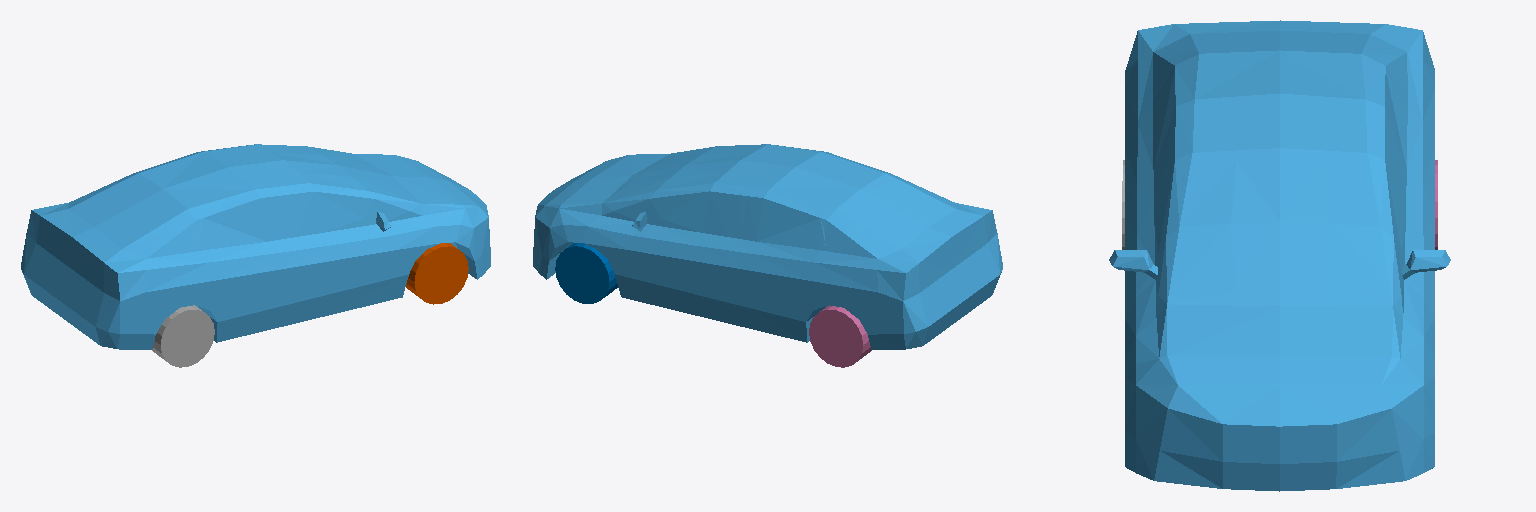
URDF robot description (prius):
<?xml version="1.0"?>
<robot xmlns:xacro="http://ros.org/wiki/xacro" name="prius">
  <!--- Surface properties must come first? -->
  <gazebo reference="front_left_wheel">
    <mu1>0.9</mu1>
    <mu2>0.9</mu2>
    <minDepth>0.005</minDepth>
    <kp>1e8</kp>
  </gazebo>
  <gazebo reference="front_right_wheel">
    <mu1>0.9</mu1>
    <mu2>0.9</mu2>
    <minDepth>0.005</minDepth>
    <kp>1e8</kp>
  </gazebo>
  <gazebo reference="rear_left_wheel">
    <mu1>0.9</mu1>
    <mu2>0.9</mu2>
    <minDepth>0.005</minDepth>
    <kp>1e8</kp>
  </gazebo>
  <gazebo reference="rear_right_wheel">
    <mu1>0.9</mu1>
    <mu2>0.9</mu2>
    <minDepth>0.005</minDepth>
    <kp>1e8</kp>
  </gazebo>

  <link name="base_link">
    <inertial>
      <mass value="1"/>
      <inertia ixx="0.001" ixy="0.0" ixz="0.0" iyy="0.001" iyz="0.0" izz="0.001"/>
    </inertial>
  </link>
  <joint name="base_link_connection" type="fixed">
    <parent link="base_link"/>
    <child link="chassis"/>
    <origin xyz="1.45 0 0" rpy="0 0 1.57"/>
    <axis xyz="1 0 0"/>
  </joint>

  <link name="chassis">
    <visual>
      <origin xyz="0 0 0" rpy="0 0 0"/>
      <geometry>
        <mesh filename="meshes/hybrid_body.obj" scale="0.01 0.01 0.01"/>
      </geometry>
    </visual>

    <collision name="chassis">
      <origin xyz="0.0 0.05 0.625" rpy="0 0 0"/>
      <geometry>
        <box size="1.7526 2.1 0.95"/>
      </geometry>
    </collision>

    <collision name="front_bumper">
      <origin xyz="0.0 -2.0 0.458488" rpy="0.0 0 0"/>
      <geometry>
        <box size="1.337282 0.48 0.566691"/>
      </geometry>
    </collision>

    <collision name="hood">
      <origin xyz="0.0 -1.900842 0.676305" rpy="0.341247 0 0"/>
      <geometry>
        <box size="1.597968 0.493107 0.265468"/>
      </geometry>
    </collision>

    <collision name="windshield">
      <origin xyz="0.0 -0.875105 1.032268" rpy="0.335476 0 0"/>
      <geometry>
        <box size="1.168381 1.654253 0.272347"/>
      </geometry>
    </collision>

    <collision name="top_front">
      <origin xyz="0.0 0.161236 1.386042" rpy="0.135030 0 0"/>
      <geometry>
        <box size="1.279154 0.625988 0.171868"/>
      </geometry>
    </collision>

    <collision name="top_rear">
      <origin xyz="0.0 0.817696 1.360069" rpy="-0.068997 0 0"/>
      <geometry>
        <box size="1.285130 0.771189 0.226557"/>
      </geometry>
    </collision>

    <collision name="rear_window">
      <origin xyz="0.0 1.640531 1.175126" rpy="-0.262017 0 0"/>
      <geometry>
        <box size="1.267845 1.116344 0.244286"/>
      </geometry>
    </collision>

    <collision name="trunk">
      <origin xyz="0.0 1.637059 0.888180" rpy="0.0 0 0"/>
      <geometry>
        <box size="1.788064 1.138988 0.482746"/>
      </geometry>
    </collision>

    <collision name="back_bumper">
      <origin xyz="0.0 2.054454 0.577870" rpy="0.0 0 0"/>
      <geometry>
        <box size="1.781650 0.512093 0.581427"/>
      </geometry>
    </collision>

    <inertial>
      <mass value="1356.0"/>
      <origin xyz="0 0 0.48" rpy="0 0 1.5708"/>
      <inertia ixx="2581.13354740" ixy="0.0" ixz="0.0" iyy="591.30846112" iyz="0.0" izz="2681.95008628"/>
    </inertial>
  </link>
  <link name="fl_axle">
    <inertial>
      <mass value="1"/>
      <origin xyz="0 0 0"/>
      <inertia ixx="0.004" ixy="0.0" ixz="0.0" iyy="0.004" iyz="0.0" izz="0.004"/>
    </inertial>
  </link>
  <link name="fr_axle">
    <inertial>
      <mass value="1"/>
      <origin xyz="0 0 0"/>
      <inertia ixx="0.004" ixy="0.0" ixz="0.0" iyy="0.004" iyz="0.0" izz="0.004"/>
    </inertial>
  </link>
  <link name="front_left_wheel">
    <inertial>
      <mass value="10000"/>
      <origin xyz="0 0 0"/>
      <inertia ixx="0.58631238" ixy="0.0" ixz="0.0" iyy="0.33552910" iyz="0.0" izz="0.33552910"/>
    </inertial>
    <collision name="front_left_wheel_collision">
      <geometry>
        <sphere radius="0.31265"/>
      </geometry>
    </collision>
    <visual>
      <origin xyz="0 0 0" rpy="0 0 0"/>
      <geometry>
        <mesh filename="meshes/wheel.obj" scale="0.01 0.01 0.01"/>
      </geometry>
    </visual>
  </link>
  <link name="front_right_wheel">
    <inertial>
      <mass value="10000"/>
      <origin xyz="0 0 0"/>
      <inertia ixx="0.58631238" ixy="0.0" ixz="0.0" iyy="0.33552910" iyz="0.0" izz="0.33552910"/>
    </inertial>
    <collision name="front_right_wheel_collision">
      <geometry>
        <sphere radius="0.31265"/>
      </geometry>
    </collision>
    <visual>
      <origin xyz="0 0 0" rpy="0 0 0"/>
      <geometry>
        <mesh filename="meshes/wheel.obj" scale="0.01 0.01 0.01"/>
      </geometry>
    </visual>
  </link>
  <link name="rear_left_wheel">
    <inertial>
      <mass value="10000"/>
      <origin xyz="0 0 0"/>
      <inertia ixx="0.58631238" ixy="0.0" ixz="0.0" iyy="0.33552910" iyz="0.0" izz="0.33552910"/>
    </inertial>
    <collision name="rear_left_wheel_collision">
      <geometry>
        <sphere radius="0.31265"/>
      </geometry>
    </collision>
    <visual>
      <origin xyz="0 0 0" rpy="0 0 0"/>
      <geometry>
        <mesh filename="meshes/wheel.obj" scale="0.01 0.01 0.01"/>
      </geometry>
    </visual>
  </link>
  <link name="rear_right_wheel">
    <inertial>
      <mass value="10000"/>
      <origin xyz="0 0 0"/>
      <inertia ixx="0.58631238" ixy="0.0" ixz="0.0" iyy="0.33552910" iyz="0.0" izz="0.33552910"/>
    </inertial>
    <collision name="rear_right_wheel_collision">
      <geometry>
        <sphere radius="0.31265"/>
      </geometry>
    </collision>
    <visual>
      <origin xyz="0 0 0" rpy="0 0 0"/>
      <geometry>
        <mesh filename="meshes/wheel.obj" scale="0.01 0.01 0.01"/>
      </geometry>
    </visual>
  </link>
  <link name="steering_wheel">
    <inertial>
      <mass value="1.0"/>
      <inertia ixx="0.14583300" ixy="0.0" ixz="0.0" iyy="0.14583300" iyz="0.0" izz="0.125"/>
    </inertial>
    <visual>
      <origin xyz="0 0 0" rpy="1.302101 0 0"/> 
      <geometry>
        <mesh filename="meshes/steering_wheel.obj" scale="0.01 0.01 0.01"/>
      </geometry>
    </visual>
  </link>

  <joint name="steering_joint" type="revolute">
    <origin xyz="0.357734 -0.627868 0.988243" rpy="-1.302101 0 0"/>
    <parent link="chassis"/>
    <child link="steering_wheel"/>
    <axis xyz="0 0 1"/>
    <limit lower="-7.85" upper="7.85" effort="10000000" velocity="1000000"/>
  </joint>

  <joint name="front_left_steer_joint" type="revolute">
    <parent link="chassis"/>
    <child link="fl_axle"/>
    <origin xyz="0.767 -1.41 0.3" rpy="0 0 0"/>
    <axis xyz="0 0 1"/>
    <limit lower="-0.8727" upper="0.8727" effort="100" velocity="100"/>
  </joint>
  <joint name="front_right_steer_joint" type="revolute">
    <parent link="chassis"/>
    <child link="fr_axle"/>
    <origin xyz="-0.767 -1.41 0.3" rpy="0 0 0"/>
    <axis xyz="0 0 1"/>
    <limit lower="-0.8727" upper="0.8727" effort="100" velocity="100"/>
  </joint>
  <joint name="front_left_wheel_joint" type="continuous">
    <parent link="fl_axle"/>
    <child link="front_left_wheel"/>
    <origin xyz="0 0 0" rpy="0 0 0"/>
    <axis xyz="1 0 0"/>
  </joint>
  <joint name="front_right_wheel_joint" type="continuous">
    <parent link="fr_axle"/>
    <child link="front_right_wheel"/>
    <origin xyz="0 0 0" rpy="0 0 0"/>
    <axis xyz="1 0 0"/>
  </joint>
  <joint name="rear_left_wheel_joint" type="continuous">
    <parent link="chassis"/>
    <child link="rear_left_wheel"/>
    <origin xyz="0.793 1.45 0.3" rpy="0 0 0"/>
    <axis xyz="1 0 0"/>
  </joint>
  <joint name="rear_right_wheel_joint" type="continuous">
    <parent link="chassis"/>
    <child link="rear_right_wheel"/>
    <origin xyz="-0.793 1.45 0.3" rpy="0 0 0"/>
    <axis xyz="1 0 0"/>
  </joint>


  <!-- _sensor links and fixed joints -->
  <link name="center_laser_link">
    <inertial>
      <mass value="1"/>
      <inertia ixx="0.001" ixy="0.0" ixz="0.0" iyy="0.001" iyz="0.0" izz="0.001"/>
    </inertial>
  </link>
  <joint name="center_laser_joint" type="fixed">
    <parent link="chassis"/>
    <child link="center_laser_link"/>
    <origin xyz="0 0.4 1.8" rpy="0 0 -1.5707"/>
  </joint>

  <gazebo reference="base_link_connection">
    <disableFixedJointLumping>true</disableFixedJointLumping>
  </gazebo>

  <link name="front_camera_link">
    <inertial>
      <mass value="1"/>
      <inertia ixx="0.001" ixy="0.0" ixz="0.0" iyy="0.001" iyz="0.0" izz="0.001"/>
    </inertial>
  </link>
  <joint name="front_camera_joint" type="fixed">
    <parent link="chassis"/>
    <child link="front_camera_link"/>
    <origin xyz="0 -0.4 1.4" rpy="0 0.05 -1.5707"/>
  </joint>

  <gazebo>
    <plugin name="pruis_hybrid_drive" filename="libPriusHybridPlugin.so">
      <chassis>chassis</chassis>
      <front_left_wheel>front_left_wheel_joint</front_left_wheel>
      <front_right_wheel>front_right_wheel_joint</front_right_wheel>
      <front_left_wheel_steering>front_left_steer_joint</front_left_wheel_steering>
      <front_right_wheel_steering>front_right_steer_joint</front_right_wheel_steering>
      <back_left_wheel>rear_left_wheel_joint</back_left_wheel>
      <back_right_wheel>rear_right_wheel_joint</back_right_wheel>
      <steering_wheel>steering_joint</steering_wheel>
      <chassis_aero_force_gain>0.63045</chassis_aero_force_gain>
      <front_torque>859.4004393000001</front_torque>
      <back_torque>0</back_torque>
      <front_brake_torque>1031.28052716</front_brake_torque>
      <back_brake_torque>687.5203514400001</back_brake_torque>
      <max_speed>37.998337013956565</max_speed>
      <min_gas_flow>8.981854013171626e-05</min_gas_flow>
      <gas_efficiency>0.371</gas_efficiency>
      <battery_charge_watt_hours>291</battery_charge_watt_hours>
      <battery_discharge_watt_hours>214</battery_discharge_watt_hours>
      <max_steer>0.6458</max_steer>
      <flwheel_steering_p_gain>1e5</flwheel_steering_p_gain>
      <frwheel_steering_p_gain>1e5</frwheel_steering_p_gain>
      <flwheel_steering_i_gain>0</flwheel_steering_i_gain>
      <frwheel_steering_i_gain>0</frwheel_steering_i_gain>
      <flwheel_steering_d_gain>3e1</flwheel_steering_d_gain>
      <frwheel_steering_d_gain>3e1</frwheel_steering_d_gain>
    </plugin>
  </gazebo>
<!-- d gain was 3e2! -->
  <gazebo>
    <plugin name="joint_state_publisher" filename="libgazebo_ros_joint_state_publisher.so">
      <!-- <robotNamespace>/prius</robotNamespace> -->
      <jointName>rear_right_wheel_joint, rear_left_wheel_joint, front_right_wheel_joint, front_left_wheel_joint, front_right_steer_joint, front_left_steer_joint, steering_joint</jointName>
      <updateRate>100.0</updateRate>
      <alwaysOn>true</alwaysOn>
    </plugin>
  </gazebo>

  <gazebo>
    <plugin name="p3d" filename="libgazebo_ros_p3d.so">
      <!-- <robotNamespace>/prius</robotNamespace> -->
      <bodyName>base_link</bodyName>
      <topicName>base_pose_ground_truth</topicName>
      <frameName>map</frameName>
      <updateRate>100.0</updateRate>
    </plugin>
  </gazebo>

  <gazebo reference="center_laser_link">
    <sensor name='center_laser_sensor' type='ray'>
      <ray>
        <scan>
          <horizontal>
            <samples>512</samples>
            <resolution>1</resolution>
            <min_angle>-3.14</min_angle>
            <max_angle>3.14</max_angle>
          </horizontal>
          <vertical>
            <samples>16</samples>
            <min_angle>-0.1</min_angle>
            <max_angle>-0.35</max_angle>
          </vertical>
        </scan>
        <range>
          <min>0.2</min>
          <max>30</max>
          <resolution>0.01</resolution>
        </range>
      </ray>
      <plugin name='center_laser' filename='libgazebo_ros_block_laser.so'>
        <topicName>/prius/center_laser/scan</topicName>
        <frameName>center_laser_link</frameName>
        <gaussianNoise>0.01</gaussianNoise>
      </plugin>
      <always_on>1</always_on>
      <update_rate>30</update_rate>
      <visualize>0</visualize>
    </sensor>
  </gazebo>

  <gazebo reference="front_camera_link">
    <sensor type="camera" name="front_camera_sensor">
      <update_rate>30.0</update_rate>
      <camera name="front_camera">
        <horizontal_fov>1.3962634</horizontal_fov>
        <image>
          <width>800</width>
          <height>800</height>
          <format>R8G8B8</format>
        </image>
        <clip>
          <near>0.02</near>
          <far>300</far>
        </clip>
        <noise>
          <type>gaussian</type>
          <mean>0.0</mean>
          <stddev>0.007</stddev>
        </noise>
      </camera>
      <plugin name="front_camera_controller" filename="libgazebo_ros_camera.so">
        <alwaysOn>true</alwaysOn>
        <updateRate>0.0</updateRate>
        <cameraName>/prius/front_camera</cameraName>
        <imageTopicName>image_raw</imageTopicName>
        <cameraInfoTopicName>/prius/front_camera_info</cameraInfoTopicName>
        <frameName>camera_link</frameName>
        <hackBaseline>0.07</hackBaseline>
        <distortionK1>0.0</distortionK1>
        <distortionK2>0.0</distortionK2>
        <distortionK3>0.0</distortionK3>
        <distortionT1>0.0</distortionT1>
        <distortionT2>0.0</distortionT2>
      </plugin>
    </sensor>
  </gazebo>

</robot>

--- What the picture shows (computed from the rendered views, not written in the file) ---
3 views of the same robot in one strip: view 1: azimuth 30°, elevation 25°; view 2: azimuth 150°, elevation 25°; view 3: azimuth 270°, elevation 25° (orthographic).
Model prius with 11 links and 10 joints (3 revolute, 4 continuous, 3 fixed), rooted at base_link, posed all joints at 0.
Links seen in each view (by area): view 1: chassis, rear_right_wheel, front_right_wheel; view 2: chassis, rear_left_wheel, front_left_wheel; view 3: chassis.
Boxes of the visible links, left/top/right/bottom form: chassis: left=21, top=144, right=490, bottom=349; rear_right_wheel: left=152, top=305, right=214, bottom=367; front_right_wheel: left=406, top=243, right=468, bottom=304; chassis: left=533, top=144, right=1002, bottom=349; rear_left_wheel: left=809, top=305, right=871, bottom=367; front_left_wheel: left=555, top=243, right=617, bottom=303; chassis: left=1109, top=20, right=1450, bottom=491.
Bounding box of the posed robot: 4.62 × 2.01 × 1.54 m (x, y, z).
Meshes: 3 distinct files referenced, 6 mesh visuals loaded (3 OBJ).
